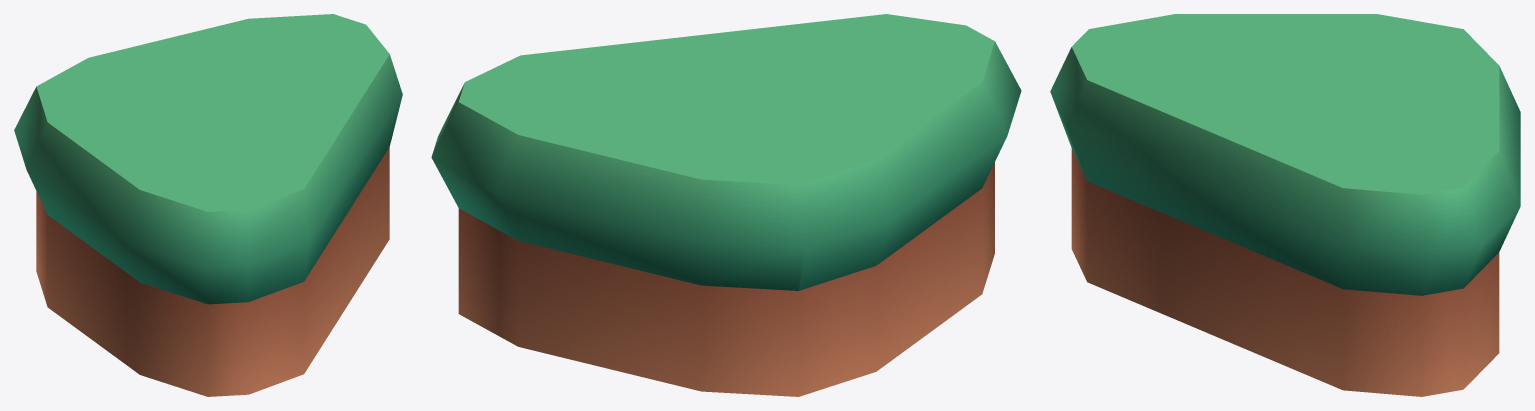
Rendered from block-grass-corner-low.glb.
3 renders of one model, left to right at view 1: azimuth 30°, elevation 25°; view 2: azimuth 150°, elevation 25°; view 3: azimuth 270°, elevation 25°, orthographic. The views are drawn at different scales.
Visible parts, largest first — view 1: block-grass-corner-low; view 2: block-grass-corner-low; view 3: block-grass-corner-low.
Part boxes in pixels (x1,y1,x2,y2): block-grass-corner-low: [14, 14, 402, 396]; block-grass-corner-low: [431, 14, 1021, 396]; block-grass-corner-low: [1050, 14, 1520, 396].
Bounding box in the file's own units: 1.05 × 0.5 × 1.05.
Materials: 1 (1 with a texture image).
